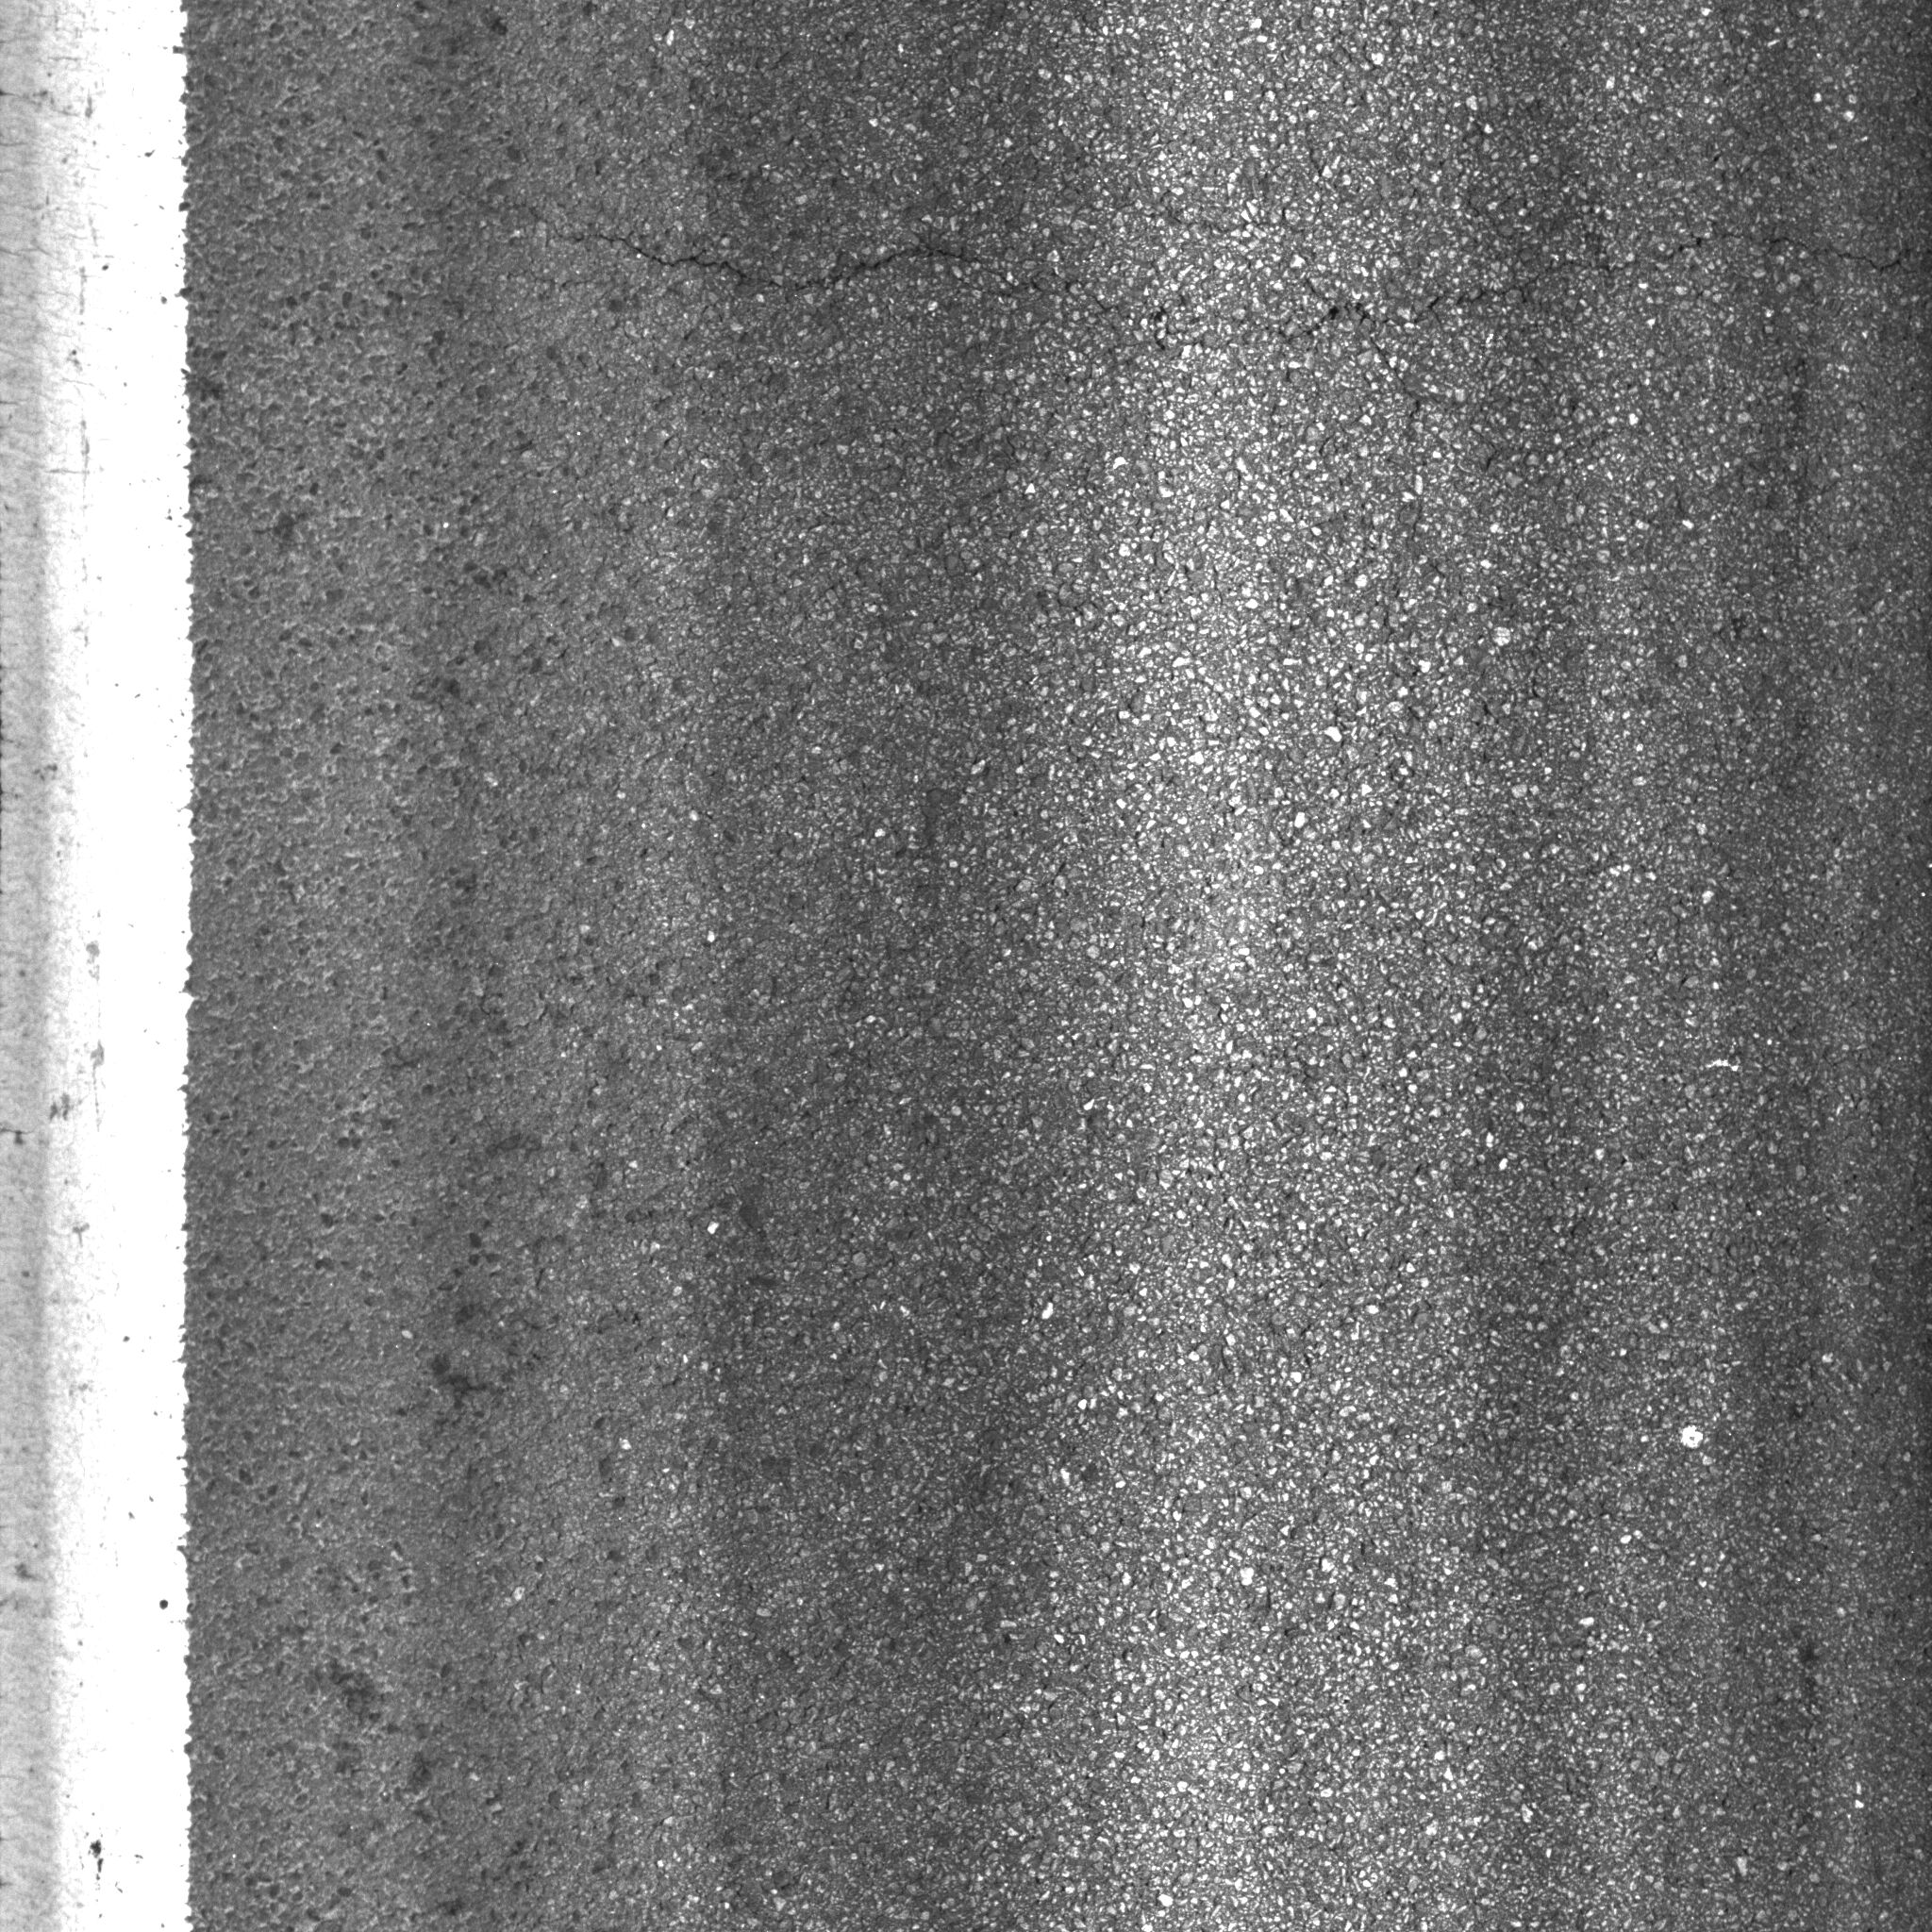transverse: (510, 186, 1921, 350)
